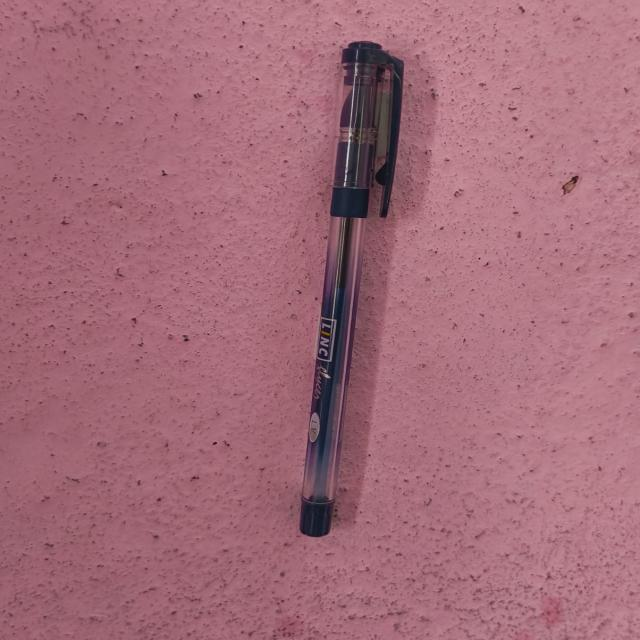blessing_card: (286, 33, 416, 547)
